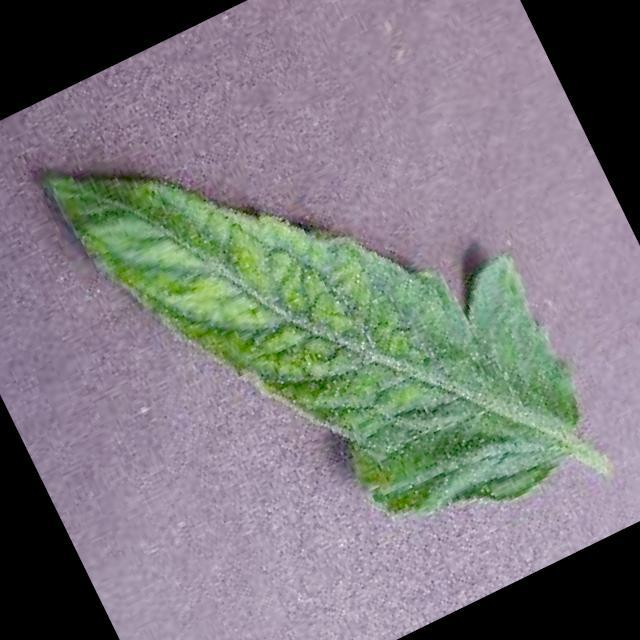Tomato mosaic virus leaf: (30, 0, 611, 625)
